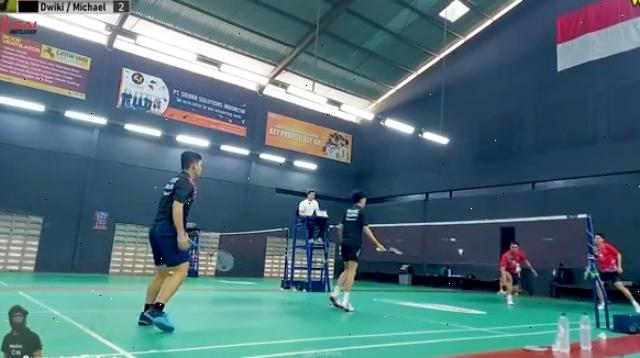Shuttlecock: (458, 248, 466, 256)
